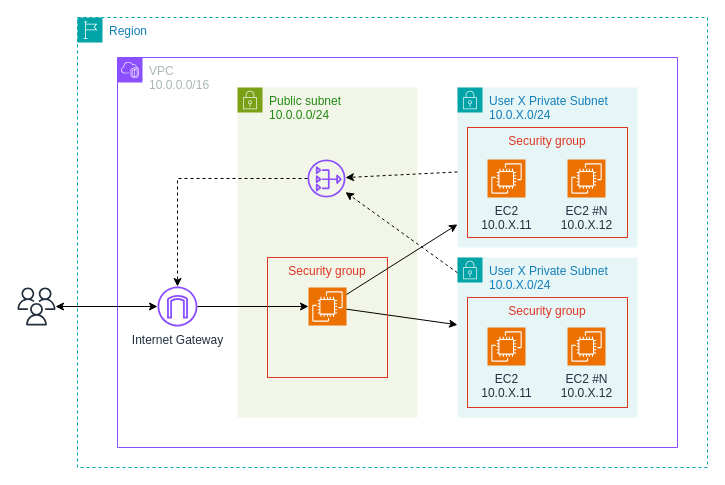
Some shapes in this 725 by 485 pixel diagram are drawn without their labels. Each missing label, with the centre of its shape:
"Guacamole EC2 10.0.0.10" belongs at point 327,306.
"NAT Gateway" belongs at point 326,178.
"Users" belongs at point 36,306.
